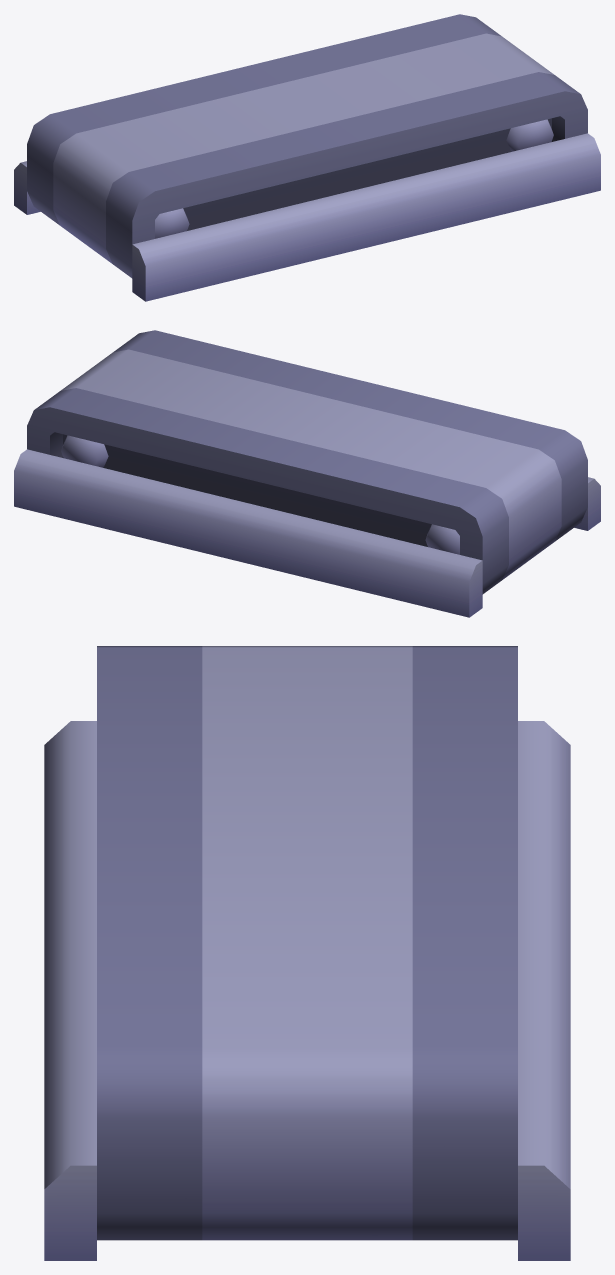
The model's file is conveyor-long-stripe-sides.glb.
3 views of the same model, one above another, from view 1: azimuth 30°, elevation 25°; view 2: azimuth 150°, elevation 25°; view 3: azimuth 270°, elevation 25° (orthographic). The views are drawn at different scales.
Parts seen in each view (by area): view 1: conveyor-long-stripe-sides; view 2: conveyor-long-stripe-sides; view 3: conveyor-long-stripe-sides.
Boxes of the visible parts, x1,y1,x2,y2 form: conveyor-long-stripe-sides: (14,14,600,301); conveyor-long-stripe-sides: (14,330,600,617); conveyor-long-stripe-sides: (44,646,570,1260).
Size of the model in its own units: 2 by 0.3999 by 1.
1 material, 1 textured.
